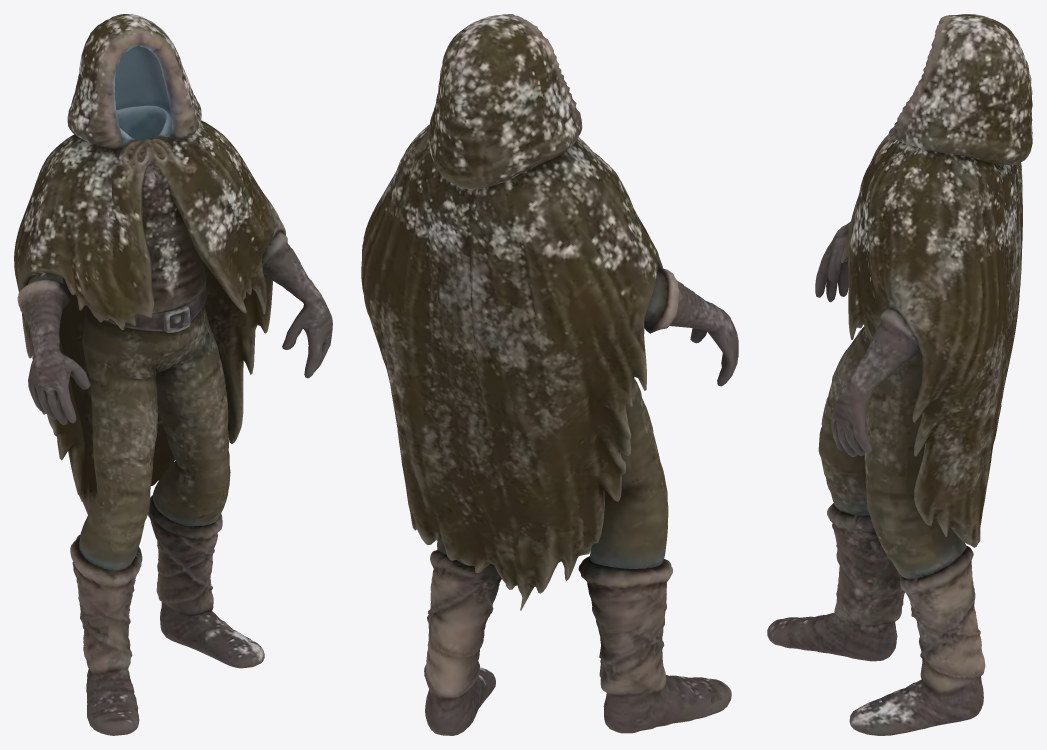
File: MZ4250 - Coldlight Walker_alt.glb
The picture shows the model from 3 angles, left to right: view 1: azimuth 30°, elevation 25°; view 2: azimuth 150°, elevation 25°; view 3: azimuth 270°, elevation 25°; orthographic projection. The views are drawn at different scales.
Parts seen in each view (by area): view 1: Body.002; view 2: Body.002; view 3: Body.002.
Part boxes in pixels (<box>): Body.002: <box>14,14,332,735</box>; Body.002: <box>361,14,738,735</box>; Body.002: <box>767,14,1032,735</box>.
Bounding box in the file's own units: 48.51 × 95.89 × 34.26.
Materials: 1 (1 with a texture image).
